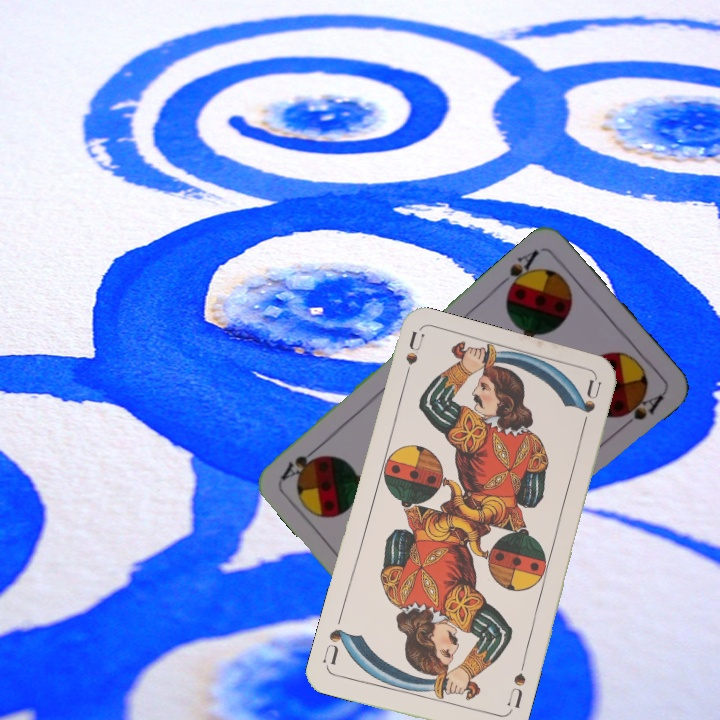SA: (495, 246, 542, 296)
SU: (398, 329, 426, 388), (503, 660, 529, 711)
